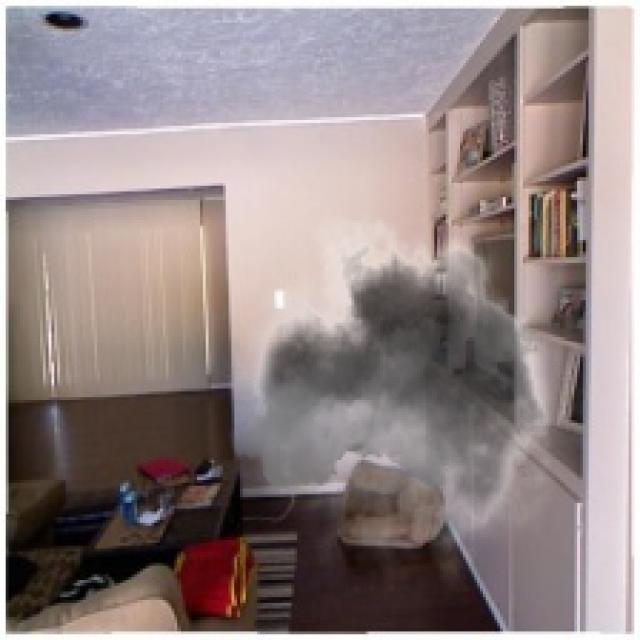smoke: (229, 197, 574, 594)
